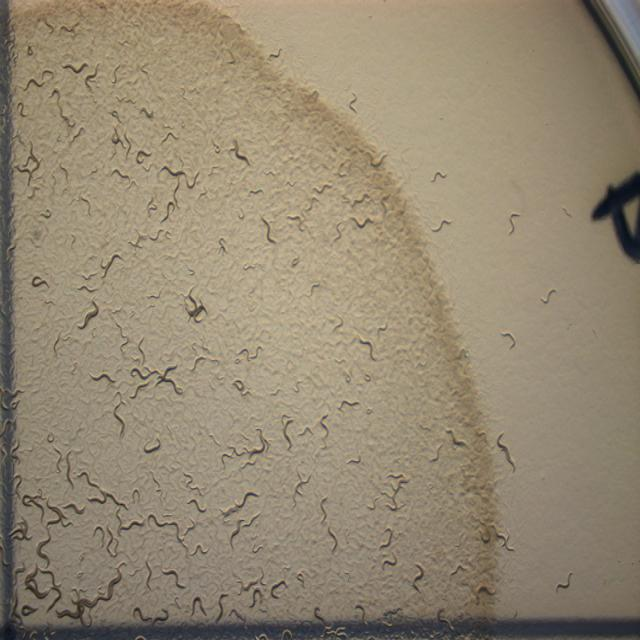filarid: (496, 432, 516, 472), (78, 300, 99, 329), (358, 334, 378, 360), (261, 215, 278, 244), (114, 392, 125, 436), (501, 330, 516, 350), (144, 437, 161, 454), (508, 212, 521, 234), (540, 287, 556, 304), (66, 452, 74, 486), (431, 219, 451, 232), (90, 372, 115, 382), (556, 574, 571, 590), (541, 289, 556, 304), (132, 367, 145, 379), (310, 282, 320, 293), (358, 219, 371, 227), (291, 255, 299, 267), (435, 170, 445, 178), (506, 547, 514, 551), (139, 384, 146, 386)
